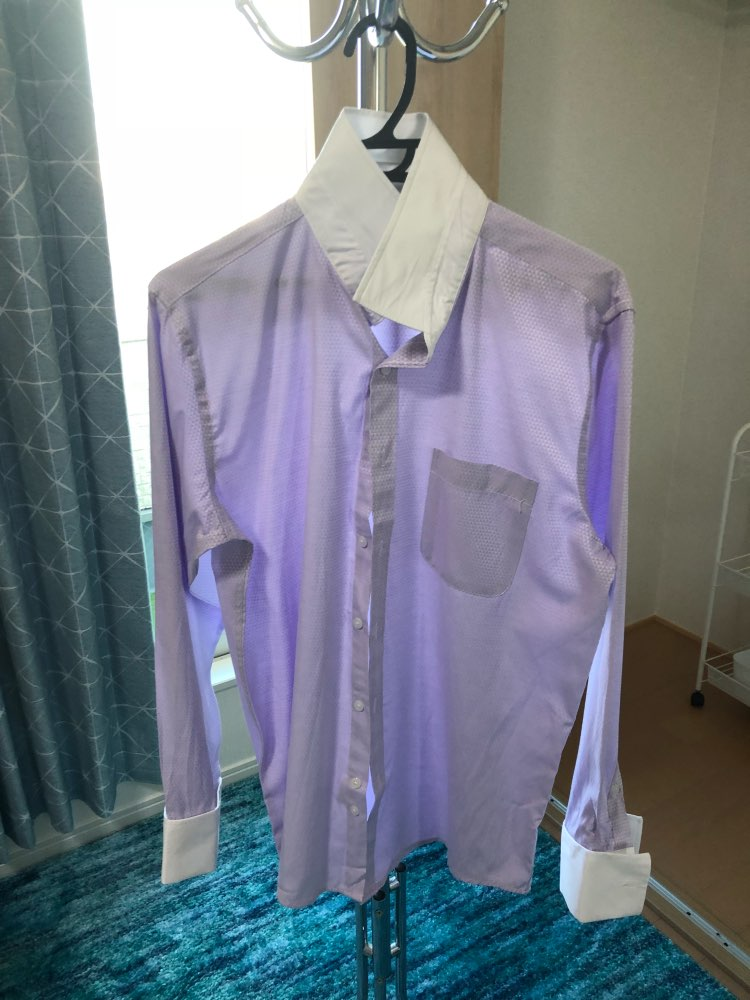shirts: (117, 129, 655, 928)
